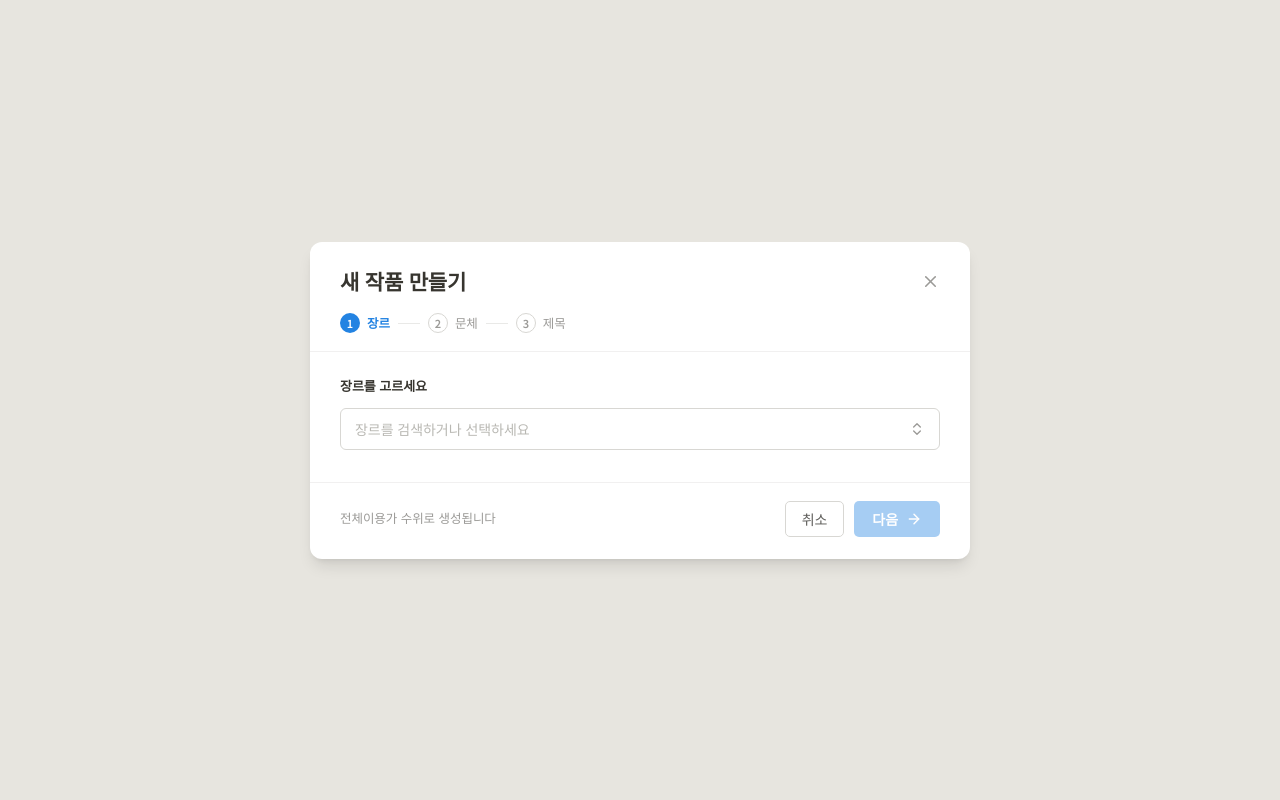
Scenario: NewWorkScreen › shows an inline error and does not navigate when creation fails
This screenshot has width=1280, height=800.
Step 1. Click the button "장르를 검색하거나 선택하세요" → (442, 428), box x1=340 y1=408 x2=940 y2=450
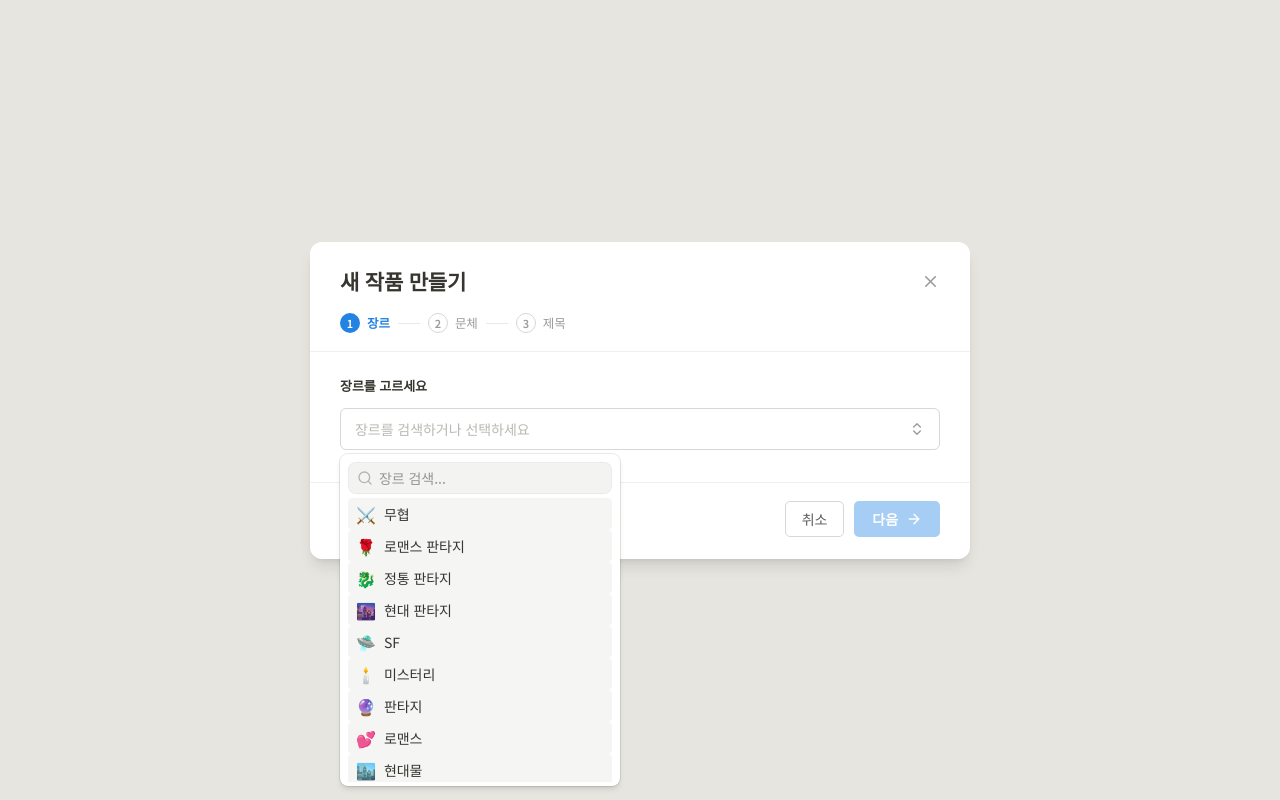
Step 2. Click the option "⚔️ 무협" → (366, 514), box x1=348 y1=498 x2=612 y2=530
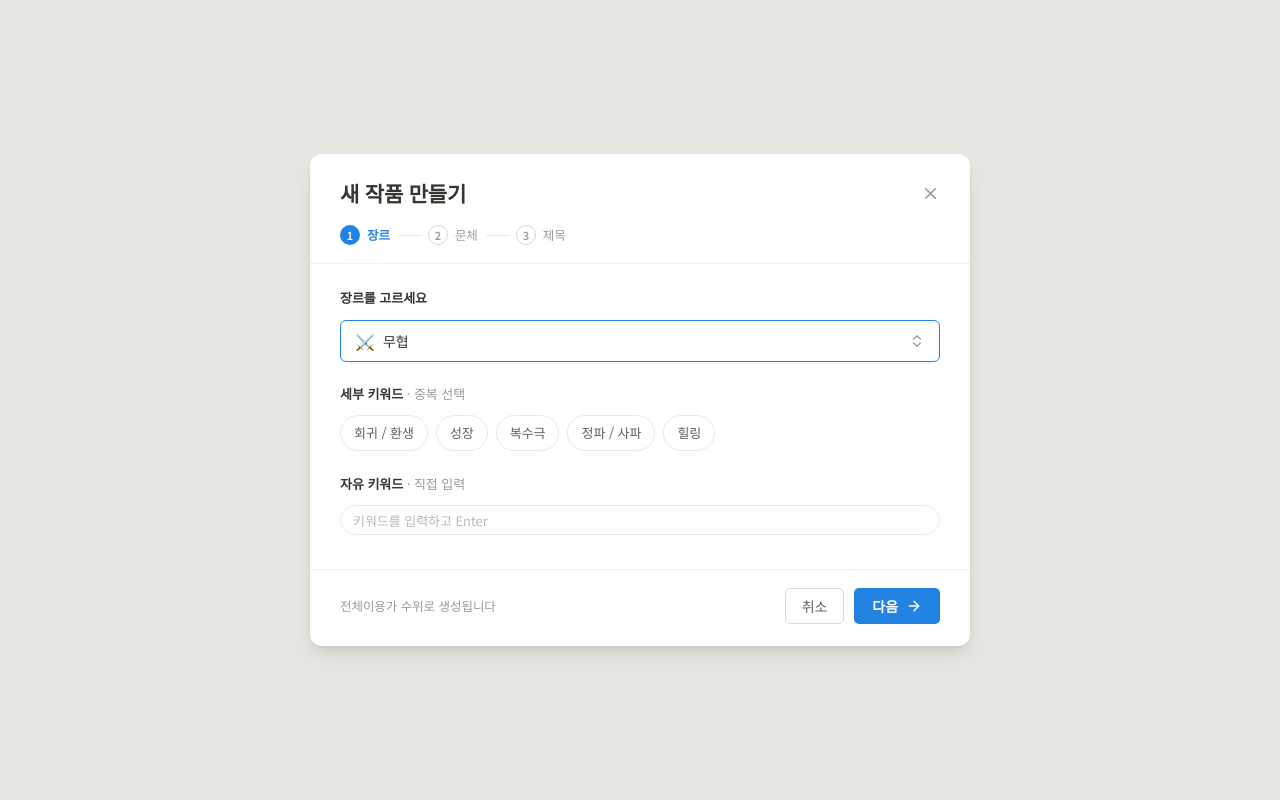
Step 3. Click the button "다음" → (897, 606), box x1=854 y1=588 x2=940 y2=624
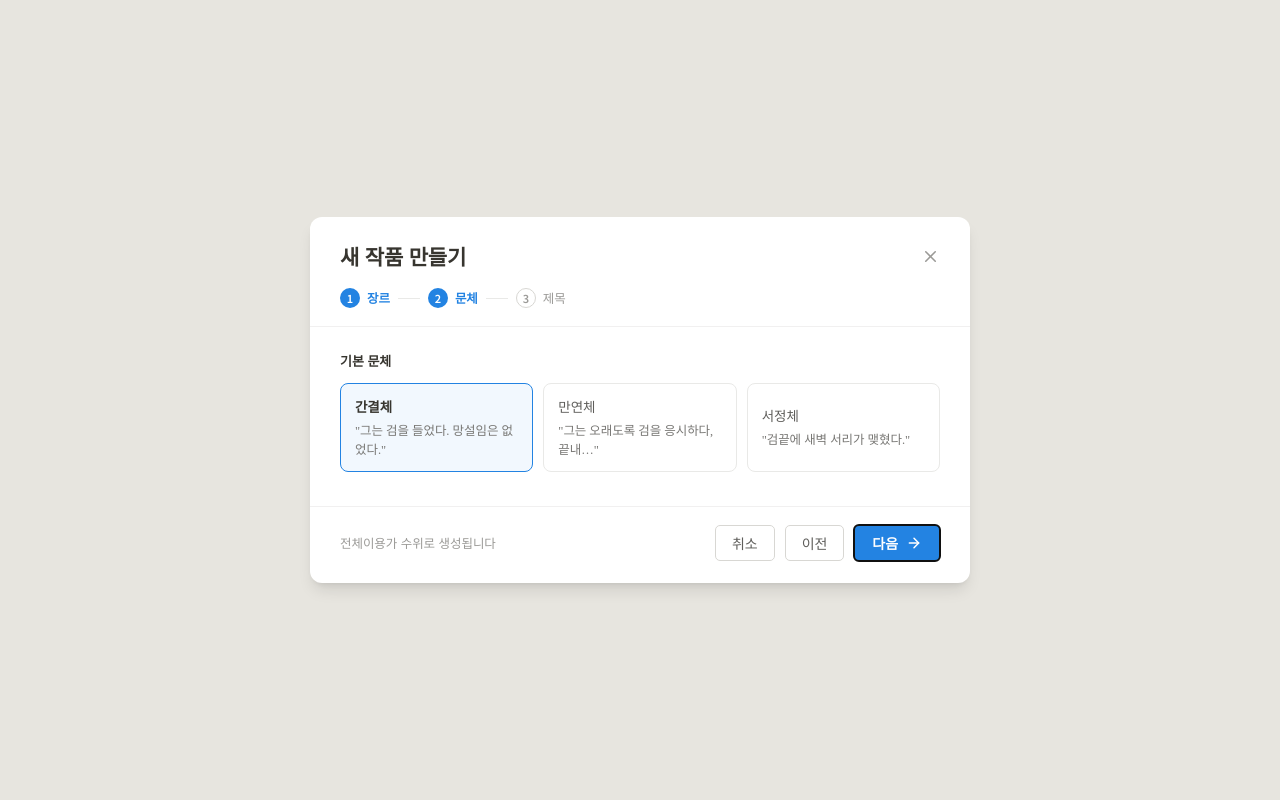
Step 4. Click the button "다음" → (897, 543), box x1=854 y1=525 x2=940 y2=561
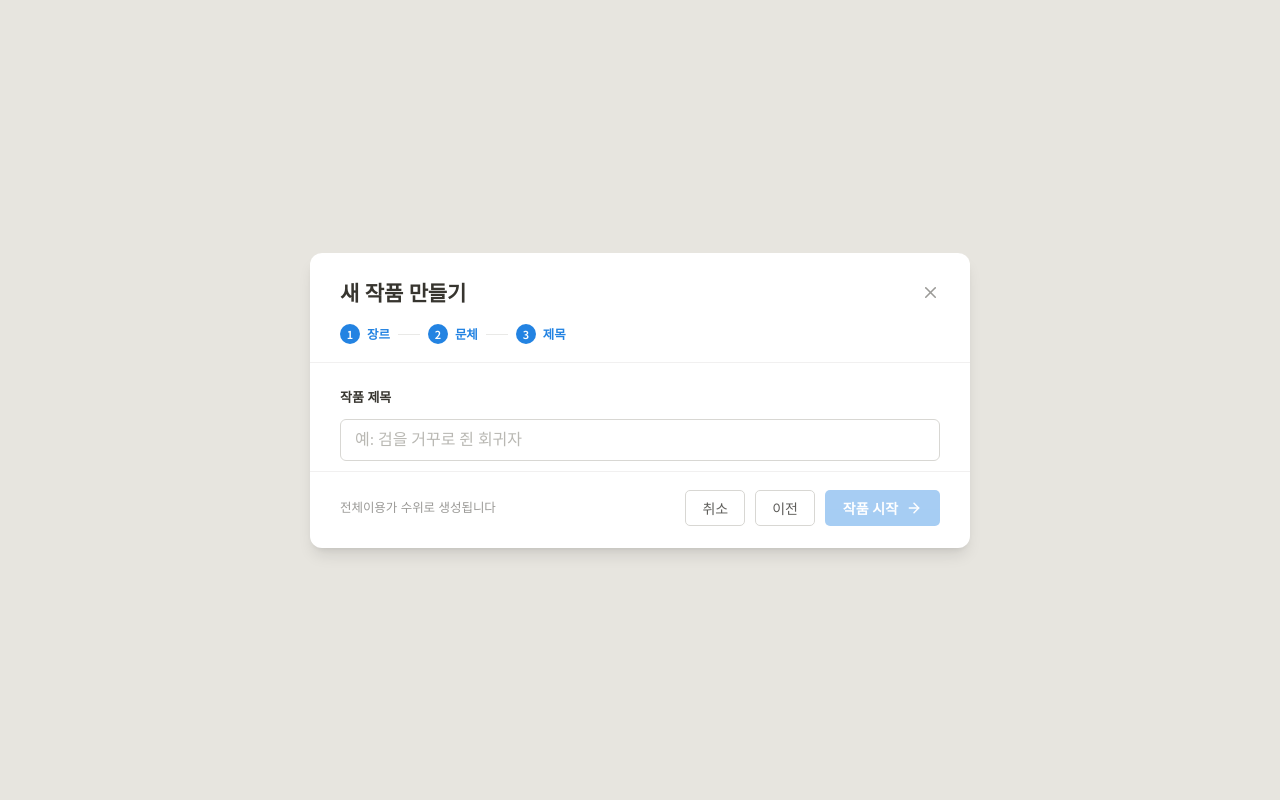
Step 5. Type "검을 거꾸로 쥔 회귀자" into the field with placeholder "예: 검을 거꾸로 쥔 회귀자" → (640, 440), box x1=340 y1=418 x2=940 y2=460
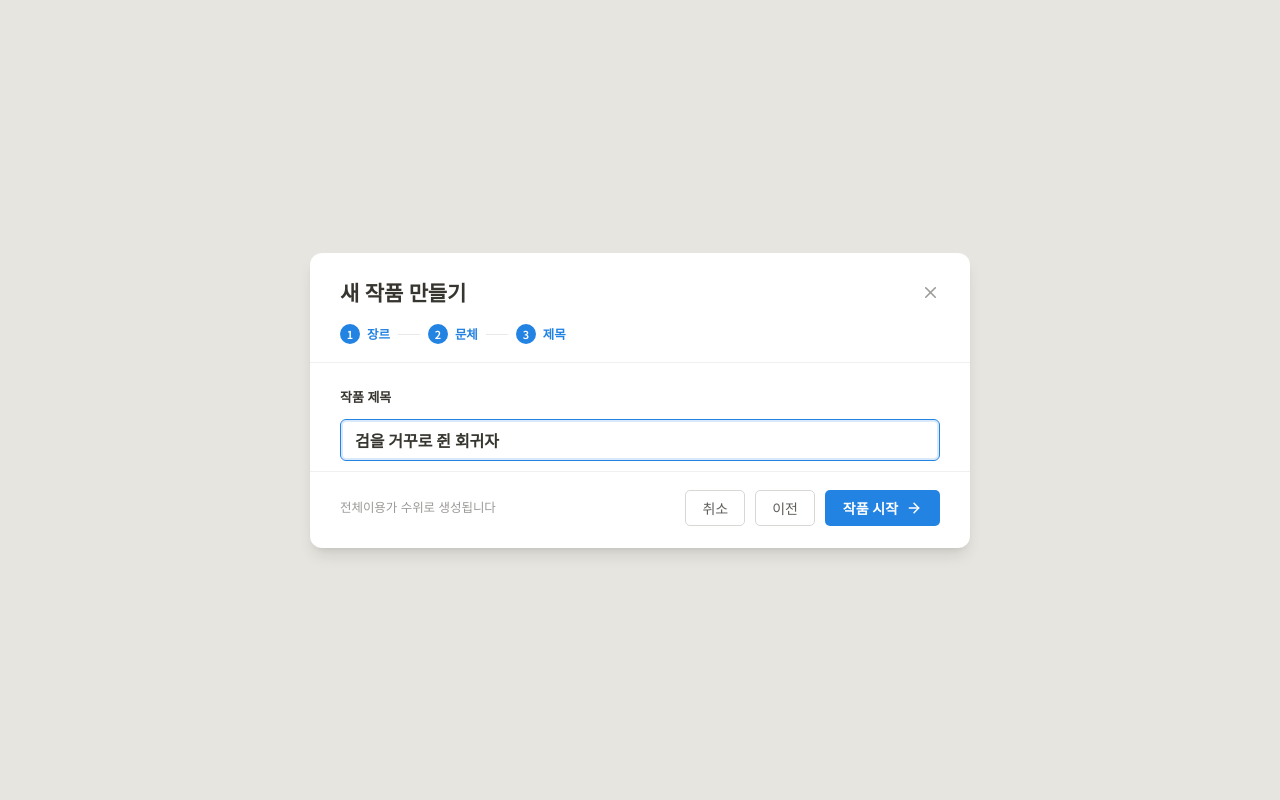
Step 6. Click the button "작품 시작" → (882, 508), box x1=825 y1=490 x2=940 y2=526
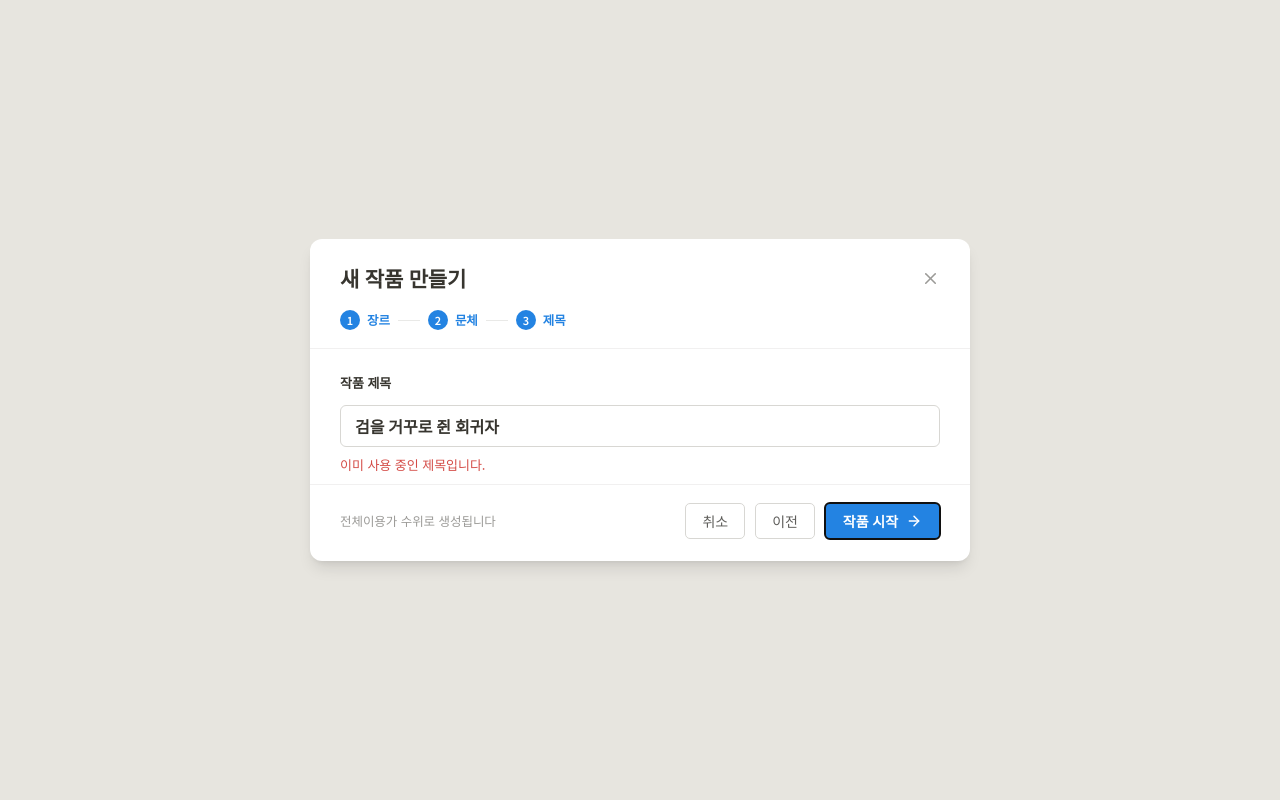
Check: the text "이미 사용 중인 제목입니다." is shown, box x1=340 y1=455 x2=485 y2=474
